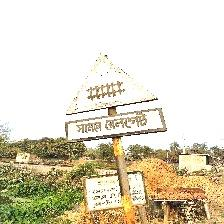Rail-crossing: (65, 54, 164, 141)
